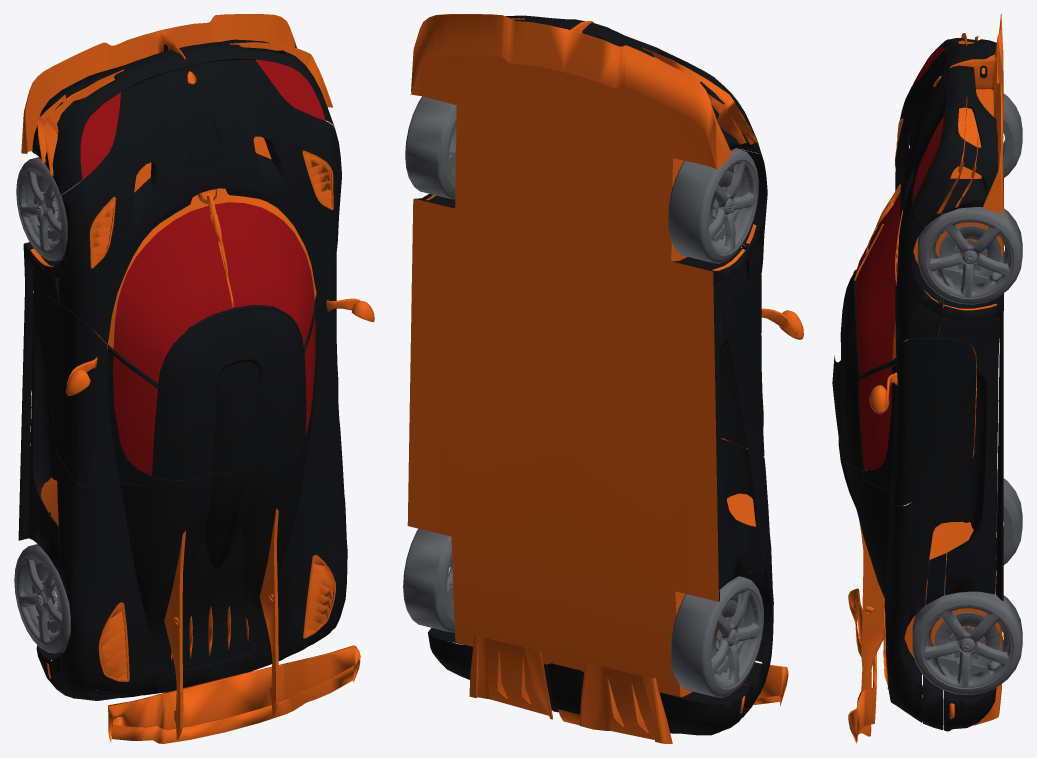
File: vehicle-agera.glb
The picture shows the model from 3 angles, left to right: view 1: azimuth 30°, elevation 25°; view 2: azimuth 150°, elevation 25°; view 3: azimuth 270°, elevation 25°; orthographic projection. The views are drawn at different scales.
Visible parts, largest first — view 1: OBcovered_car, OBcovered_car_wheel_03, OBcovered_car_wheel_02; view 2: OBcovered_car, OBcovered_car_wheel_03, OBcovered_car_wheel_02, OBcovered_car_wheel_01, OBcovered_car_wheel_04; view 3: OBcovered_car, OBcovered_car_wheel_04, OBcovered_car_wheel_01, OBcovered_car_wheel_03, OBcovered_car_wheel_02.
Boxes of the visible parts, x1,y1,x2,y2 form: OBcovered_car: (18, 14, 374, 743); OBcovered_car_wheel_03: (14, 544, 70, 653); OBcovered_car_wheel_02: (16, 157, 81, 261); OBcovered_car: (407, 14, 803, 743); OBcovered_car_wheel_03: (670, 576, 763, 697); OBcovered_car_wheel_02: (667, 148, 758, 263); OBcovered_car_wheel_01: (405, 96, 456, 199); OBcovered_car_wheel_04: (403, 528, 454, 632); OBcovered_car: (832, 14, 1003, 743); OBcovered_car_wheel_04: (912, 587, 1022, 694); OBcovered_car_wheel_01: (918, 207, 1022, 304); OBcovered_car_wheel_03: (928, 473, 1022, 573); OBcovered_car_wheel_02: (1003, 93, 1022, 178).
Size of the model in its own units: 2.1 by 4.29 by 1.13.
Materials: 1 (1 with a texture image).
